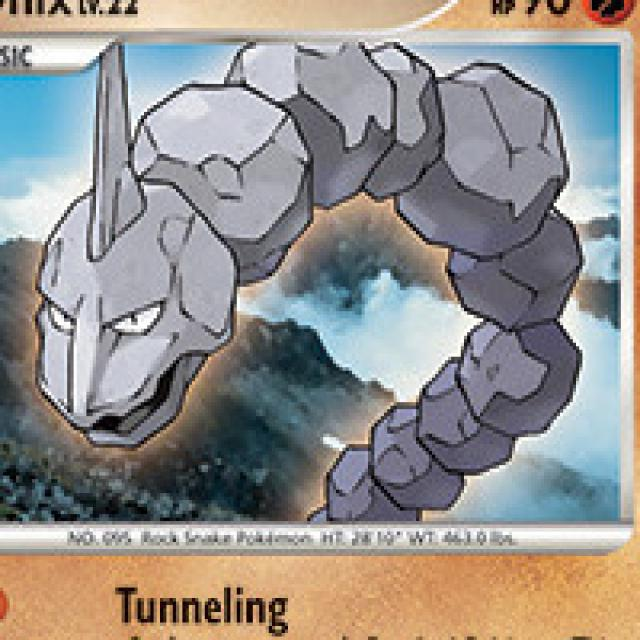Onix: (38, 51, 531, 457)
